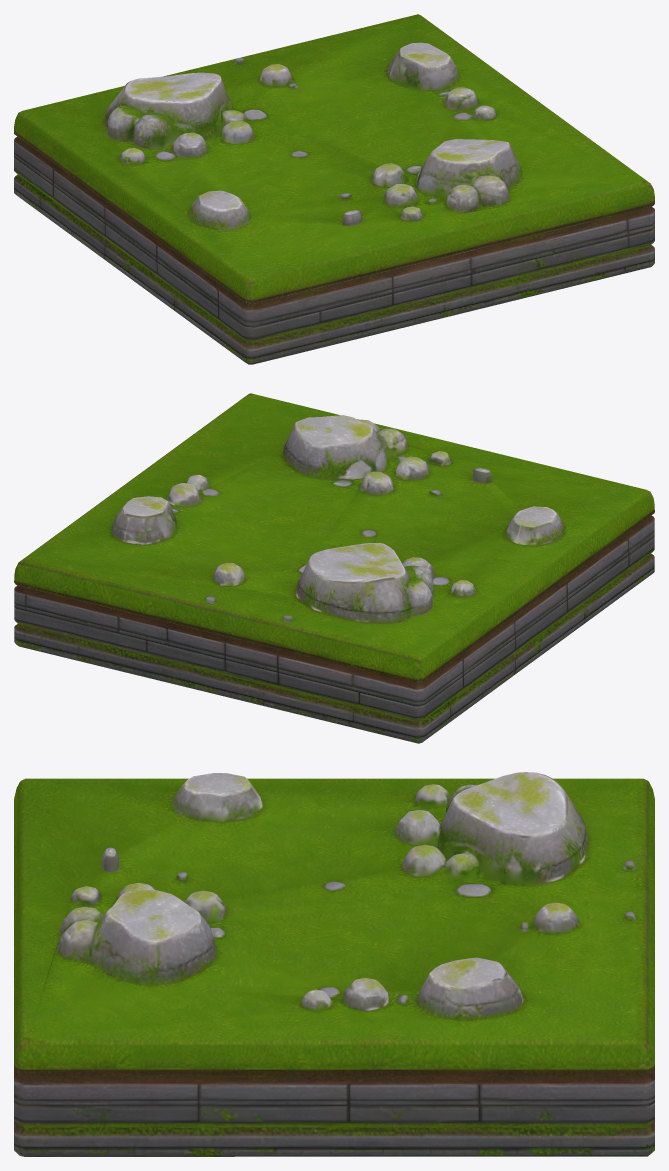
3 renders of one model, top to bottom at view 1: azimuth 30°, elevation 25°; view 2: azimuth 150°, elevation 25°; view 3: azimuth 270°, elevation 25°, orthographic. The views are drawn at different scales.
Visible parts, largest first — view 1: Grass_Tile_Optimized; view 2: Grass_Tile_Optimized; view 3: Grass_Tile_Optimized.
Part boxes in pixels (<box>): Grass_Tile_Optimized: <box>14,14,654,364</box>; Grass_Tile_Optimized: <box>14,393,654,743</box>; Grass_Tile_Optimized: <box>14,772,654,1156</box>.
Bounding box in the file's own units: 0.8433 × 0.2414 × 0.8433.
1 material, 1 textured.
